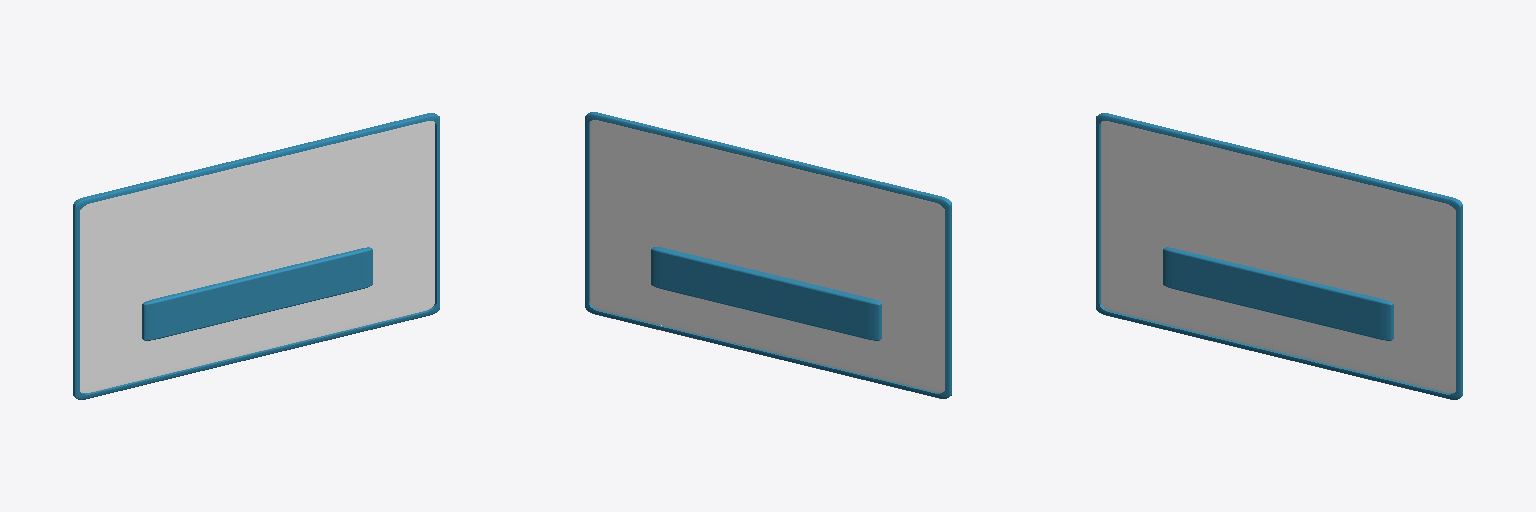
File: InfoBlueCard.obj
3 renders of one model, left to right at view 1: azimuth 30°, elevation 25°; view 2: azimuth 150°, elevation 25°; view 3: azimuth 330°, elevation 25°, orthographic.
Visible parts, largest first — view 1: group_0_-[number redacted], group_0_[number redacted]; view 2: group_0_-[number redacted], group_0_[number redacted]; view 3: group_0_-[number redacted], group_0_[number redacted].
Boxes of the visible parts, x1=… form: group_0_-[number redacted]: x1=80, y1=121, x2=434, y2=392; group_0_[number redacted]: x1=73, y1=113, x2=439, y2=399; group_0_-[number redacted]: x1=590, y1=120, x2=944, y2=392; group_0_[number redacted]: x1=585, y1=112, x2=951, y2=398; group_0_-[number redacted]: x1=1101, y1=121, x2=1455, y2=392; group_0_[number redacted]: x1=1096, y1=113, x2=1462, y2=399.
Bounding box in the file's own units: 2.49 × 1.3 × 0.09.